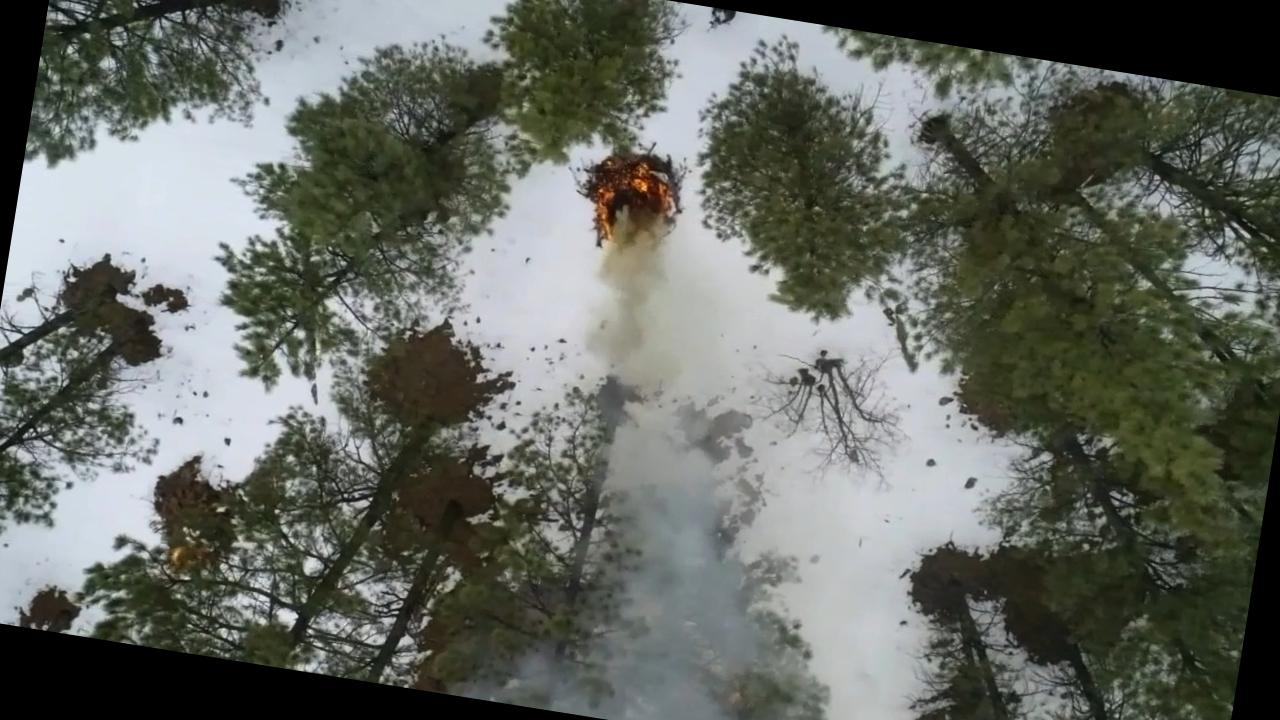fire: (577, 149, 687, 263)
smoke: (503, 545, 764, 720), (582, 408, 760, 572)
